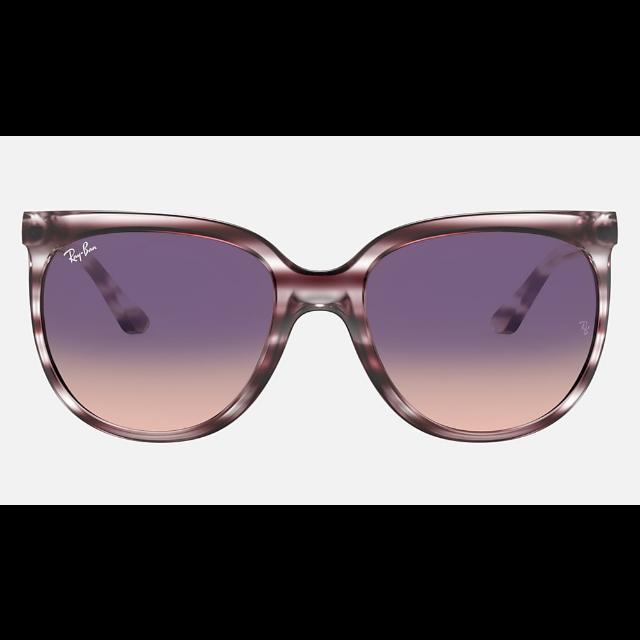Sunglasses: (23, 209, 619, 441)
